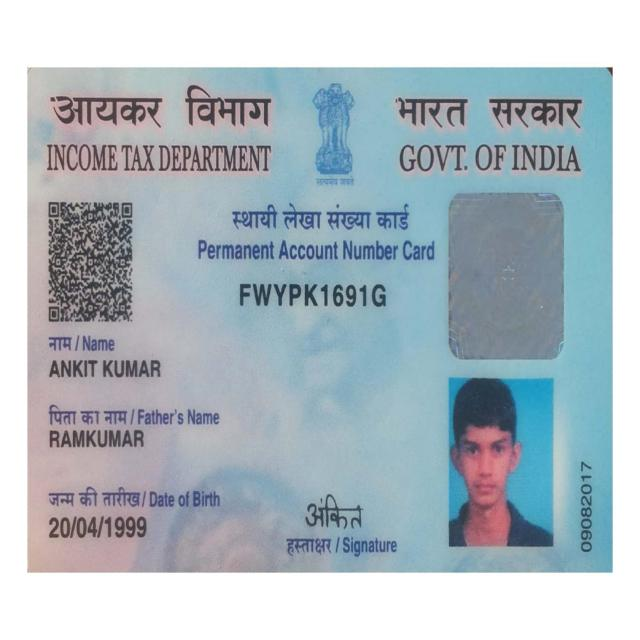pan_card: (29, 66, 599, 571)
